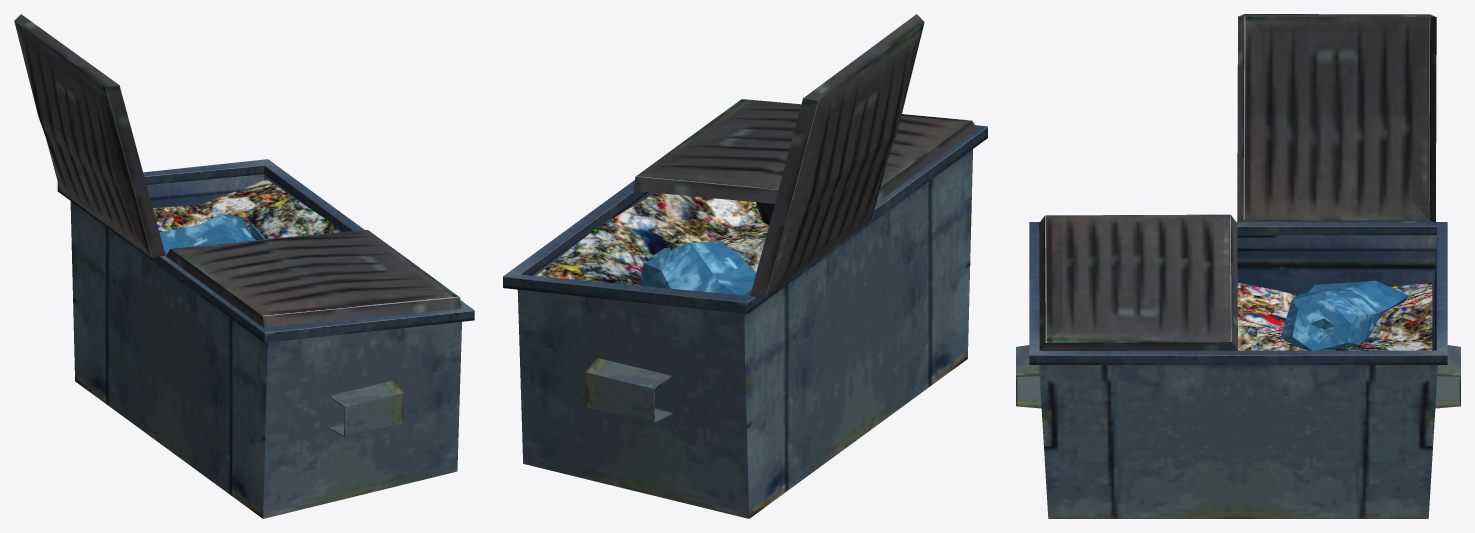
File: Urban_DumpsterDiagonalFullOpenBlue_Model.fbx
3 views of the same model, side by side, from view 1: azimuth 30°, elevation 25°; view 2: azimuth 150°, elevation 25°; view 3: azimuth 270°, elevation 25° (orthographic). The views are drawn at different scales.
Parts seen in each view (by area): view 1: Urban_DumpsterDiagonalFullOpenBlue_Mesh; view 2: Urban_DumpsterDiagonalFullOpenBlue_Mesh; view 3: Urban_DumpsterDiagonalFullOpenBlue_Mesh.
Part boxes in pixels (x1=…): Urban_DumpsterDiagonalFullOpenBlue_Mesh: x1=14, y1=14, x2=474, y2=518; Urban_DumpsterDiagonalFullOpenBlue_Mesh: x1=503, y1=14, x2=987, y2=518; Urban_DumpsterDiagonalFullOpenBlue_Mesh: x1=1016, y1=14, x2=1460, y2=518.
Size of the model in its own units: 2.53 by 3.48 by 3.67.
